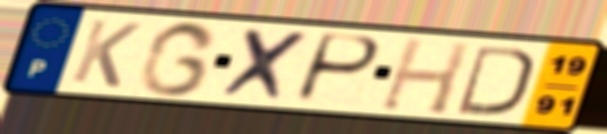D: (454, 43, 537, 118)
G: (135, 18, 222, 98)
H: (375, 35, 475, 117)
K: (67, 16, 145, 90)
P: (290, 31, 385, 106)
X: (216, 25, 318, 104)
